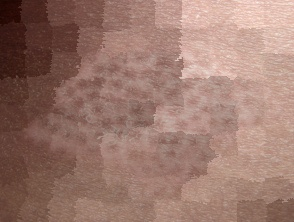vitiligo: (9, 0, 291, 222)
